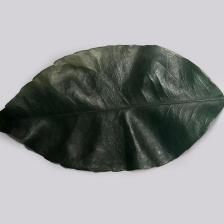healthy: (41, 50, 196, 154)
